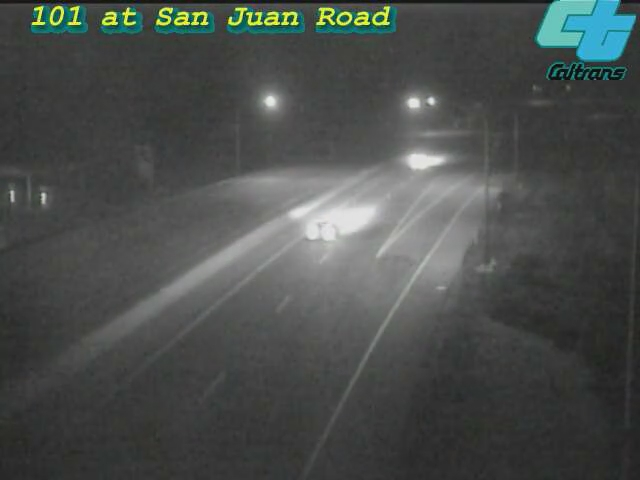vehicle: (378, 121, 458, 201), (281, 192, 361, 272)
